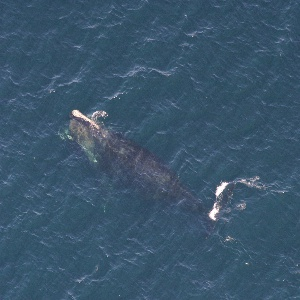cetacean: (69, 109, 228, 240)
